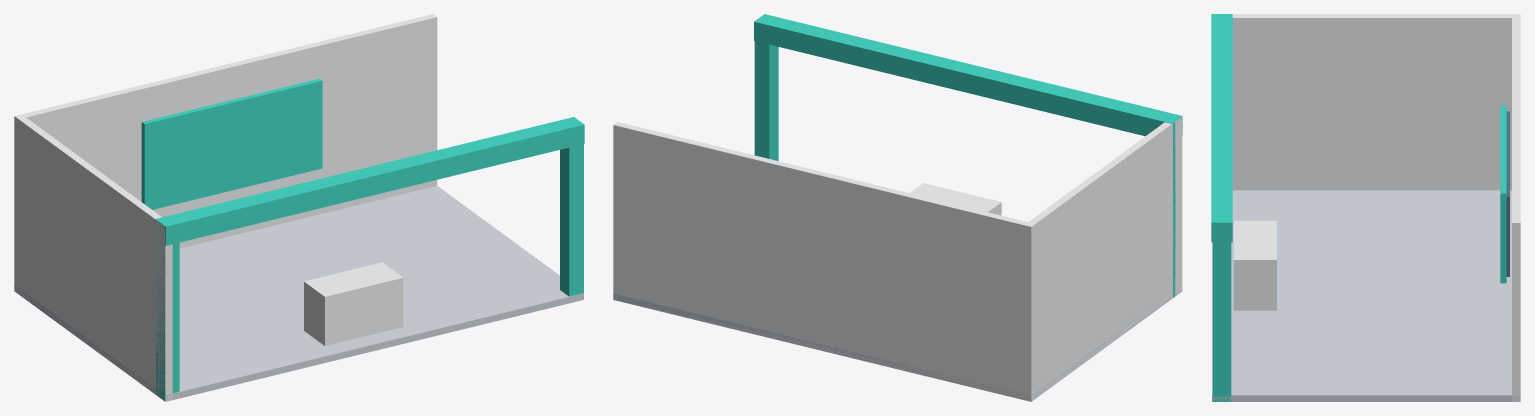
The picture shows the model from 3 angles, left to right: view 1: azimuth 30°, elevation 25°; view 2: azimuth 150°, elevation 25°; view 3: azimuth 270°, elevation 25°; orthographic projection. The views are drawn at different scales.
Visible parts, largest first — view 1: Exhibition Booth Concept; view 2: Exhibition Booth Concept; view 3: Exhibition Booth Concept.
Part boxes in pixels (x1,y1,x2,y2): Exhibition Booth Concept: [14, 14, 584, 401]; Exhibition Booth Concept: [613, 14, 1182, 401]; Exhibition Booth Concept: [1211, 14, 1520, 401].
Bounding box in the file's own units: 8 × 3.2 × 5.02.
